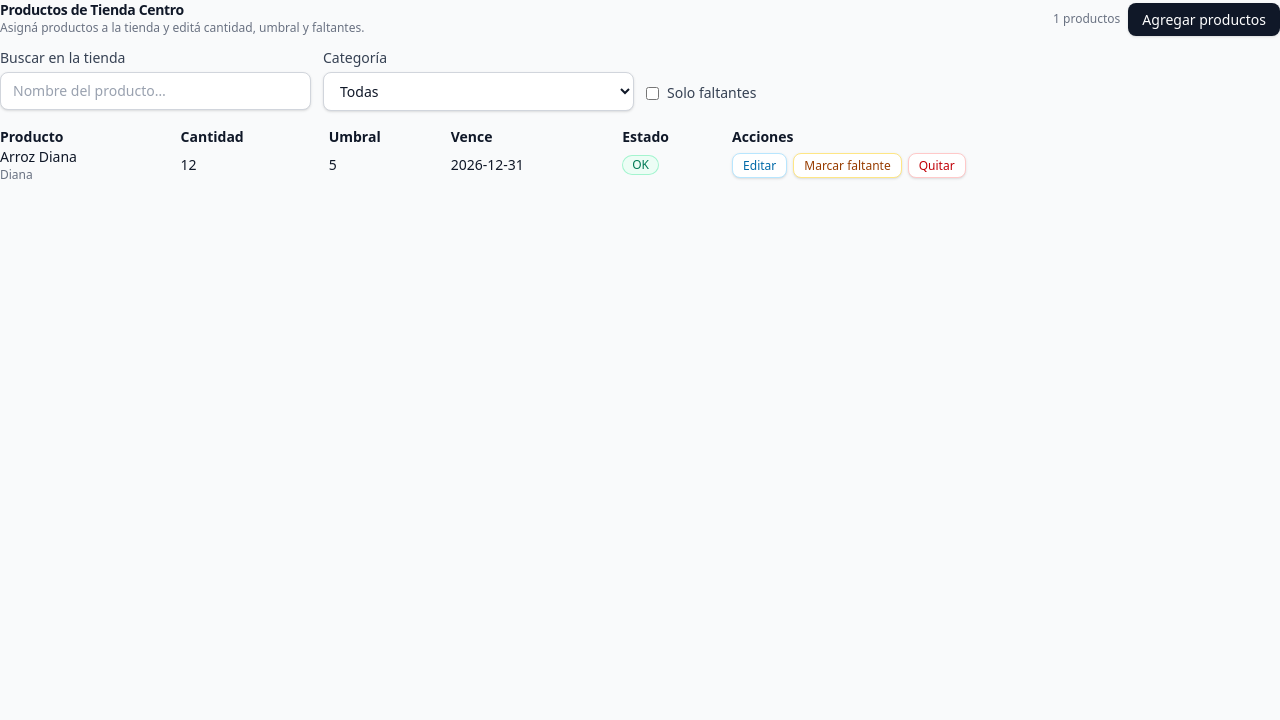
Test case: StoreCatalogPanel · catálogo y asignación de la tienda › cantidad vacía no guarda 0 en silencio
Click the button "Editar": x=760, y=165 [732, 152, 787, 178]
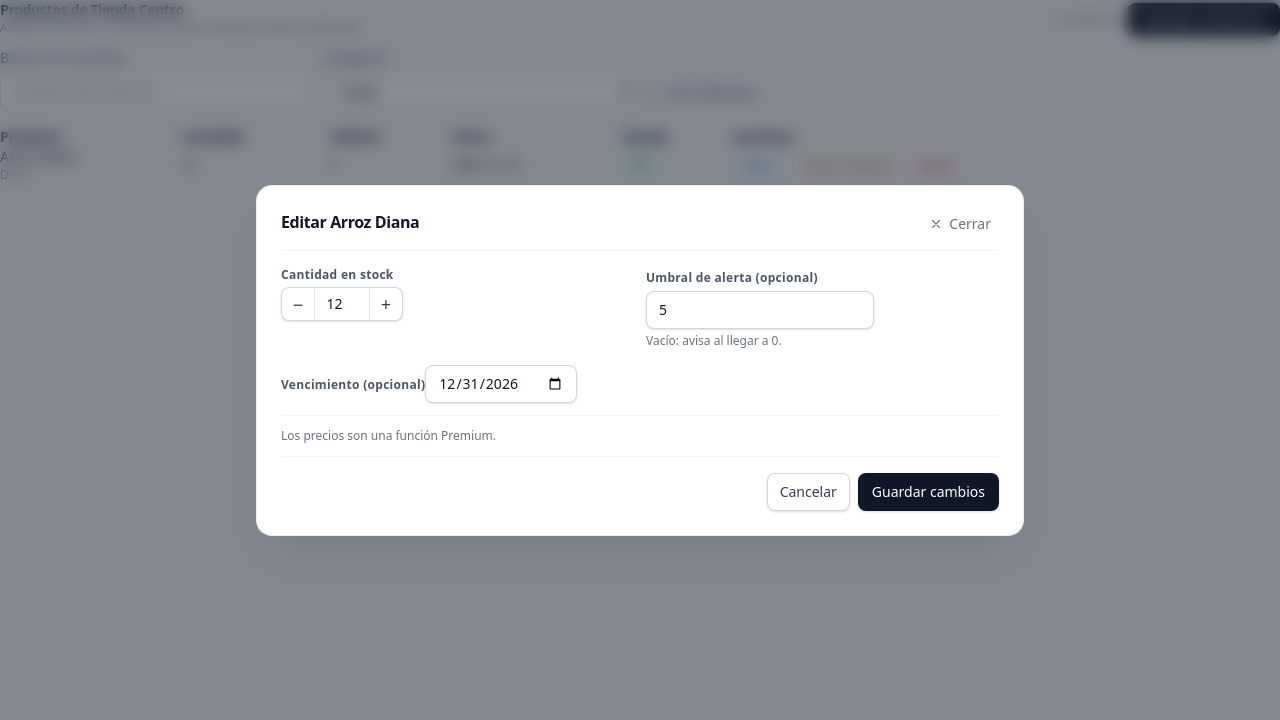
Clear the number field named "Cantidad de Arroz Diana": x=342, y=304 [314, 288, 370, 320]
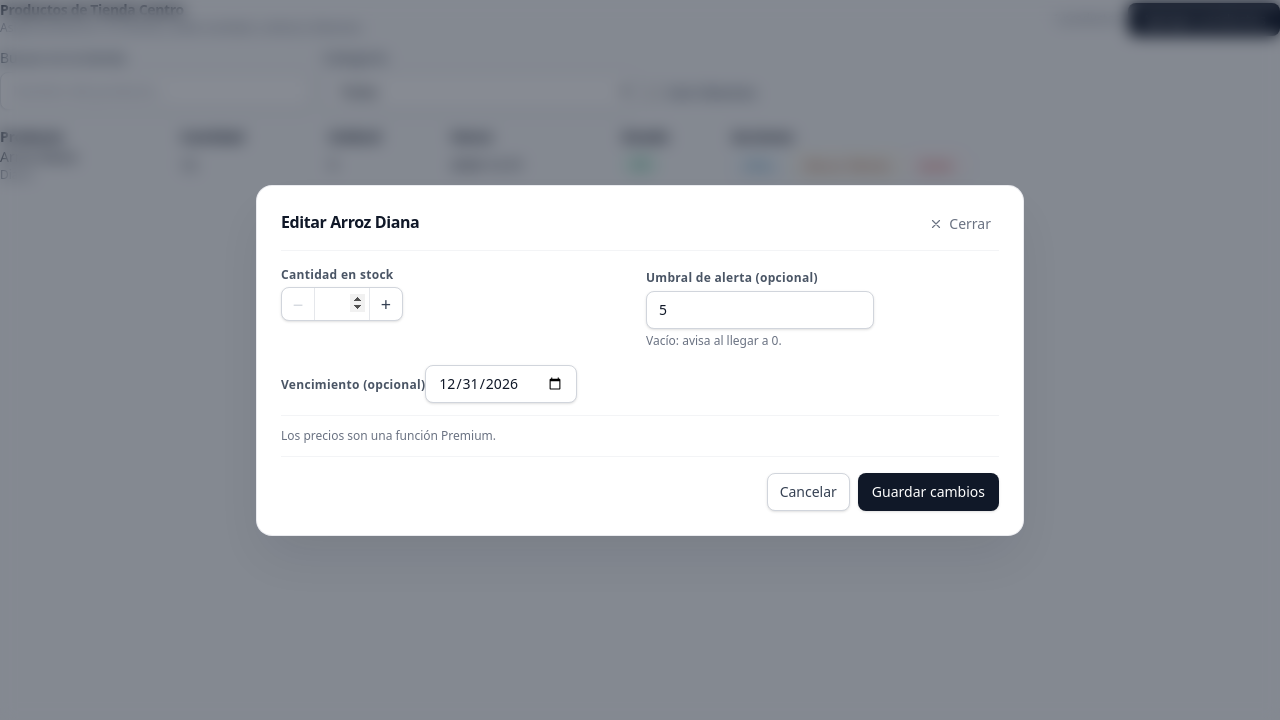
Click the button "Guardar cambios": x=928, y=492 [858, 472, 999, 510]
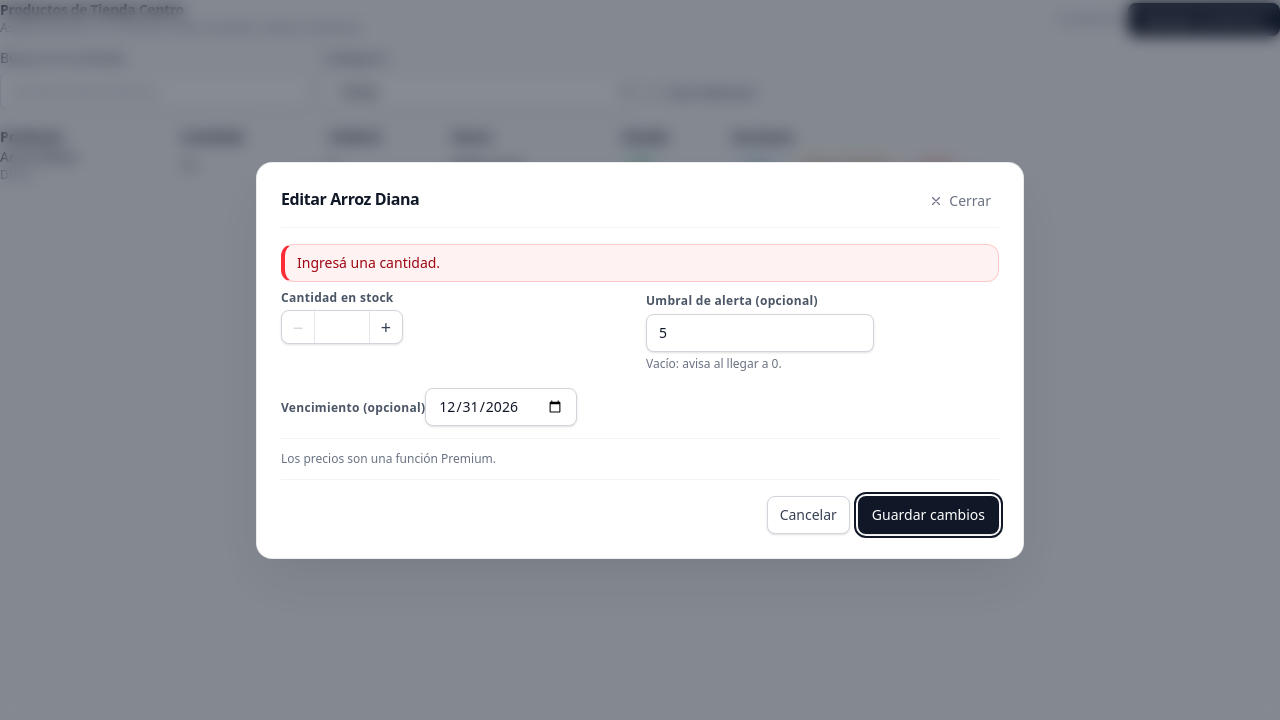
expect the text "Ingresá una cantidad." is shown: met, box [281, 244, 999, 282]
